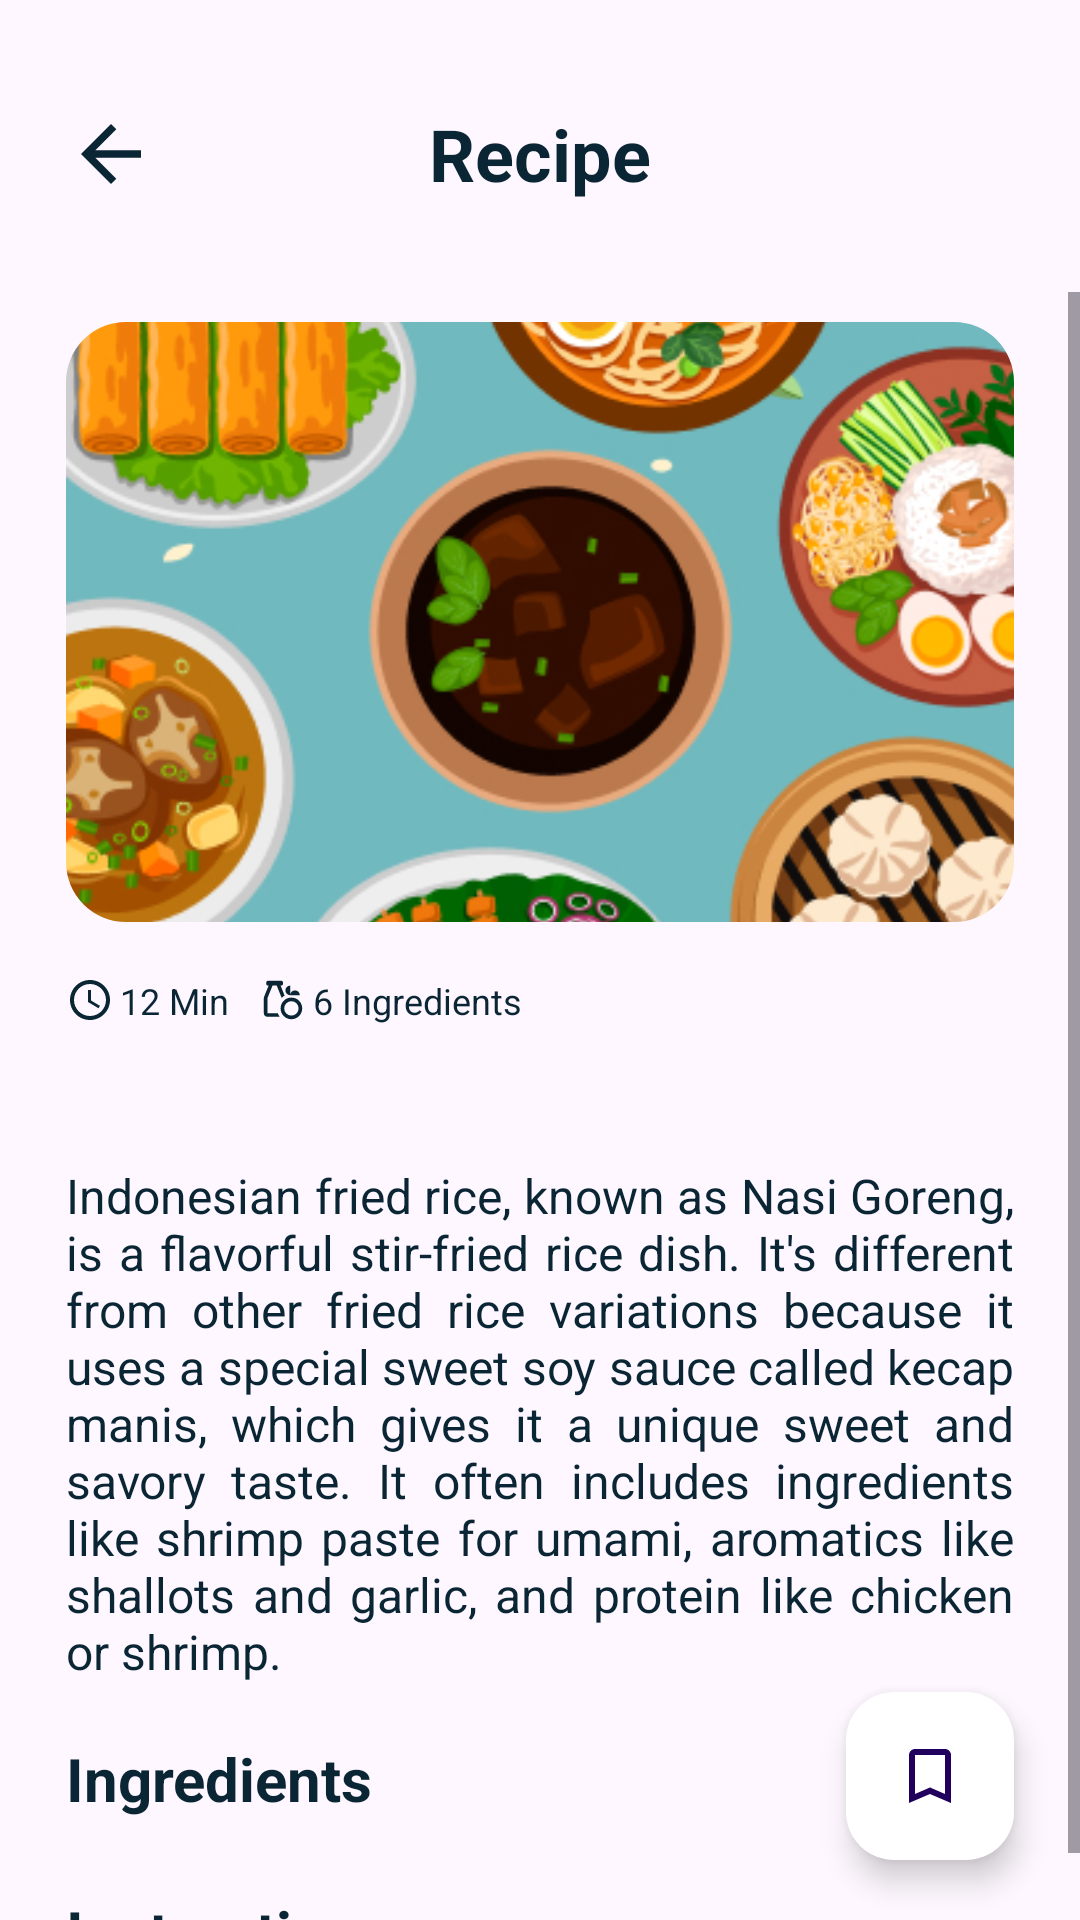

Locate icon controls on the screen. Image size 1080px×1920px, boxes as (x1, y1, x2, y2).
arrow back: (81, 124, 141, 184)
bookmark border: (846, 1692, 1014, 1860)
